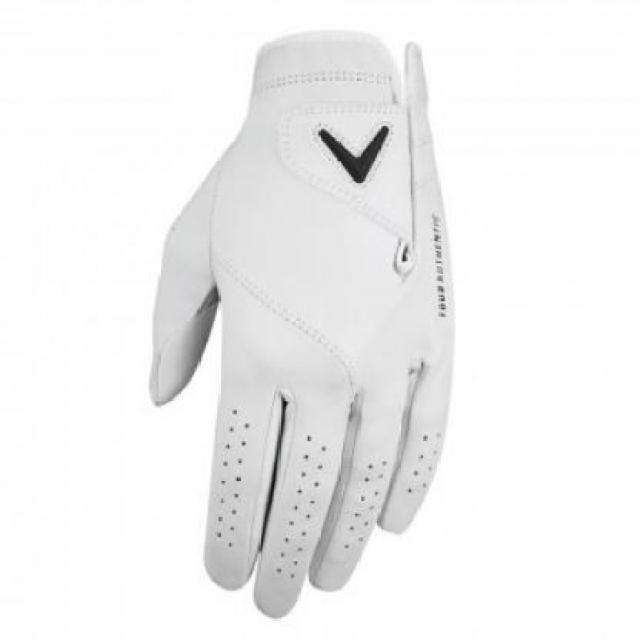glove: (142, 28, 460, 622)
